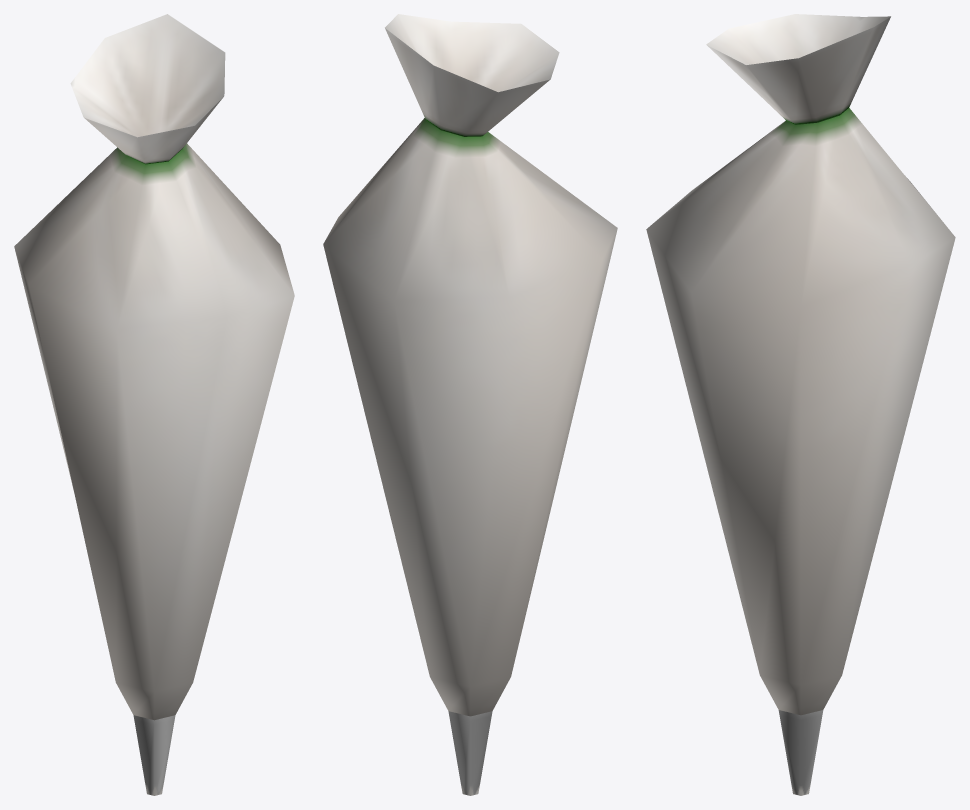
Rendered from jsf_Cream.fbx.
3 renders of one model, left to right at view 1: azimuth 30°, elevation 25°; view 2: azimuth 150°, elevation 25°; view 3: azimuth 270°, elevation 25°, orthographic. The views are drawn at different scales.
Visible parts, largest first — view 1: jsf_Cream; view 2: jsf_Cream; view 3: jsf_Cream.
Boxes of the visible parts, x1,y1,x2,y2 form: jsf_Cream: (14,14,294,795); jsf_Cream: (323,14,617,795); jsf_Cream: (646,14,955,795).
Bounding box in the file's own units: 9.59 × 27.02 × 9.59.
